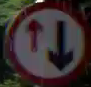Two way: (5, 2, 90, 82)
